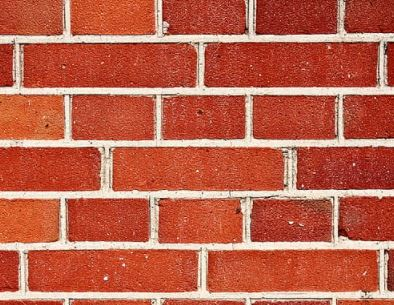brick: (18, 42, 199, 92), (204, 42, 379, 91), (204, 248, 383, 293), (111, 148, 286, 194), (23, 249, 199, 293), (1, 147, 105, 192), (69, 94, 158, 142), (250, 94, 339, 142), (293, 148, 394, 190), (64, 196, 154, 243), (156, 198, 250, 243), (159, 94, 247, 142), (250, 195, 337, 242), (1, 93, 68, 142), (67, 1, 157, 36), (163, 1, 248, 36), (252, 1, 338, 35), (1, 196, 63, 243), (338, 195, 394, 243), (340, 92, 394, 141), (1, 1, 66, 36), (343, 1, 394, 34)
